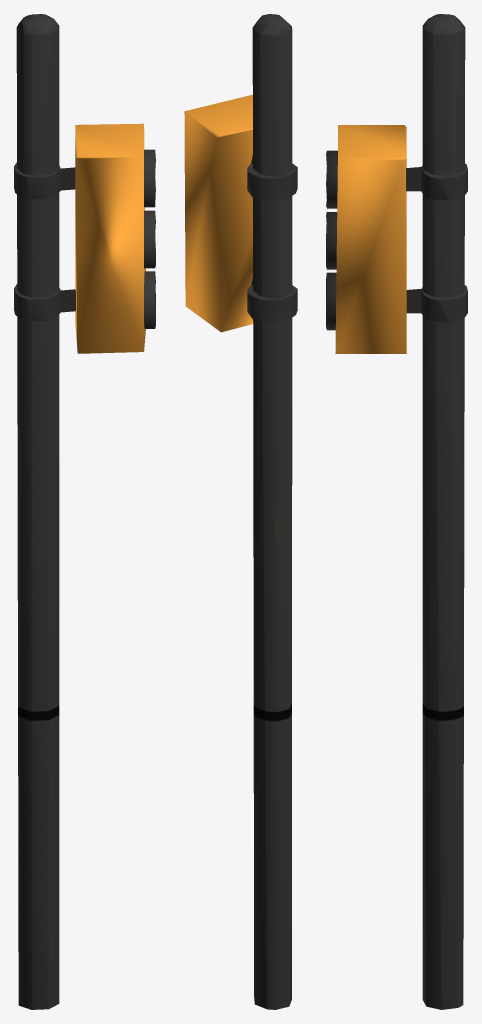
File: Traffic_Signal.fbx
3 views of the same model, side by side, from view 1: azimuth 90°, elevation 25°; view 2: azimuth 210°, elevation 25°; view 3: azimuth 270°, elevation 25° (orthographic).
Parts seen in each view (by area): view 1: polySurface313; view 2: polySurface313; view 3: polySurface313.
Boxes of the visible parts, box(x1,y1,x2,y2) form: polySurface313: box(14, 14, 155, 1009); polySurface313: box(184, 14, 297, 1009); polySurface313: box(326, 14, 467, 1009).
Bounding box in the file's own units: 0.9485 × 12.82 × 1.67.
